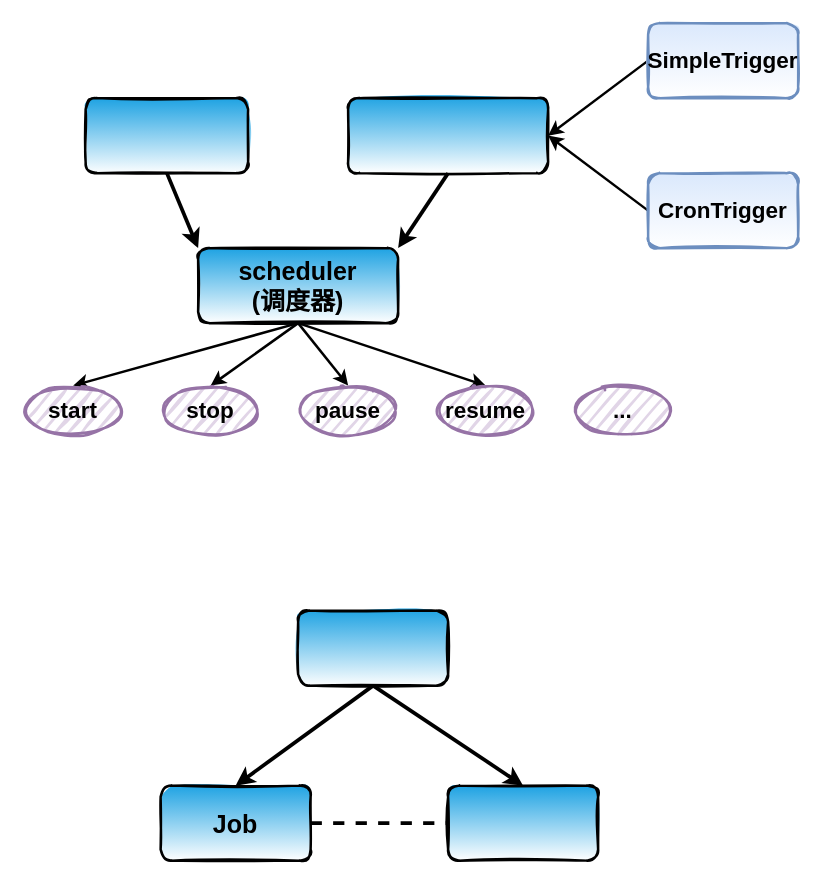
This 820x883 diagram has some shape labels left out. Each missing label, with the centre of its shape:
"JobDetail（任务）" belongs at (166,135).
"Scheduler" belongs at (372,647).
"Trigger" belongs at (522,822).
"Trigger (触发器)" belongs at (447,135).
